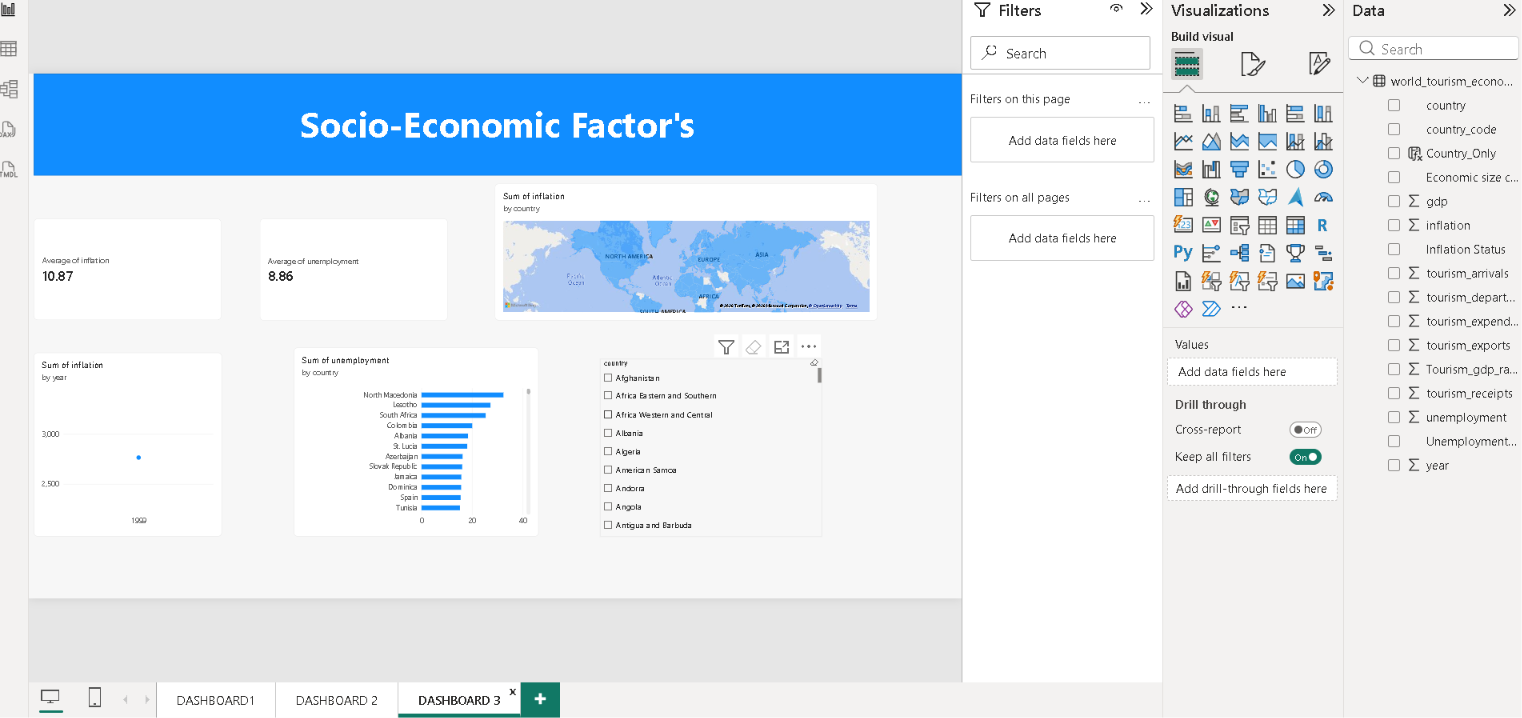

What the dashboard file says about the page in this screenshot:
{"tool":"powerbi","page":{"name":"DASHBOARD 3","canvas":[1920,1080],"ordinal":2},"visuals":[{"type":"shape","box":[10.3,0,1910.1,209.9],"z":0},{"type":"textbox","box":[10.3,53.5,1910,210],"z":1},{"type":"cardVisual","fields":{"Data":["Avg(world_tourism_economy_data.inflation)"]},"box":[10.3,298.5,387,209.9],"z":2},{"type":"cardVisual","fields":{"Data":["Avg(world_tourism_economy_data.unemployment)"]},"box":[475.5,298.5,387,210],"z":3},{"type":"lineChart","fields":{"Category":["world_tourism_economy_data.year"],"Y":["Sum(world_tourism_economy_data.inflation)"]},"box":[10.3,574.3,387,378.7],"z":4},{"type":"clusteredBarChart","fields":{"Category":["world_tourism_economy_data.country"],"Y":["Sum(world_tourism_economy_data.unemployment)"]},"box":[545.5,564,504.3,389],"z":5},{"type":"slicer","fields":{"Values":["world_tourism_economy_data.country"]},"box":[1175.3,586.6,456.9,366.4],"z":6},{"type":"filledMap","fields":{"Category":["world_tourism_economy_data.country"]},"box":[959.2,226.4,788.3,282],"z":7}]}

Visuals, with their boxes on the page's 1920x1080 design canvas (x1, y1, x2, y2). These are canvas units, not pixel positions in the 1522x718 screenshot, which may show the page scaled, cropped or inside an application window:
shape: box(10, 0, 1920, 210)
textbox: box(10, 54, 1920, 264)
cardVisual - Avg(world_tourism_economy_data.inflation): box(10, 298, 397, 508)
cardVisual - Avg(world_tourism_economy_data.unemployment): box(476, 298, 862, 508)
lineChart - world_tourism_economy_data.year x Sum(world_tourism_economy_data.inflation): box(10, 574, 397, 953)
clusteredBarChart - world_tourism_economy_data.country x Sum(world_tourism_economy_data.unemployment): box(546, 564, 1050, 953)
slicer - world_tourism_economy_data.country: box(1175, 587, 1632, 953)
filledMap - world_tourism_economy_data.country: box(959, 226, 1748, 508)
